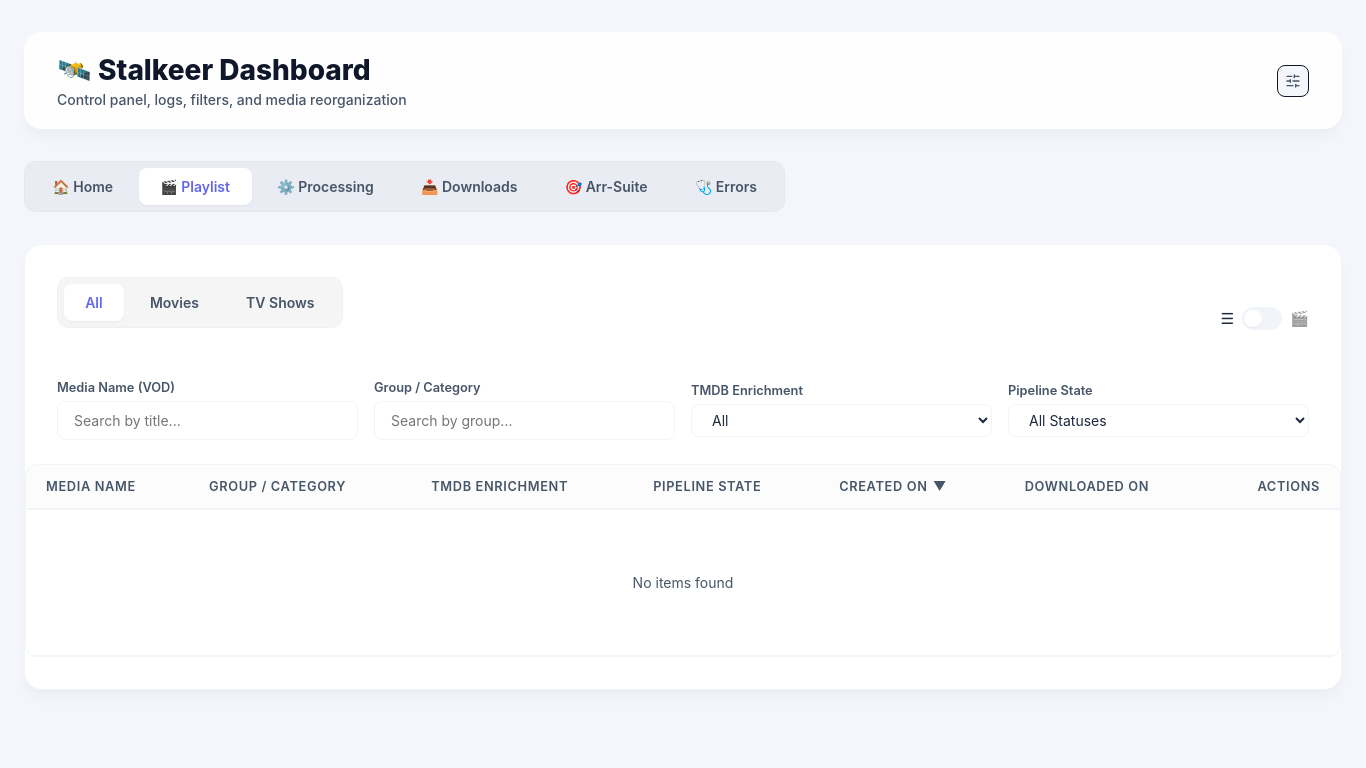
Test case: App settings navigation via URL › restores the previously active main tab on Close, regardless of which Configuration-page tab was last selected
Expected: the field with placeholder "Search by title..." is shown, [57,400,358,440]
Click the button titled "Settings": [1293, 80] box [1277,64,1309,96]
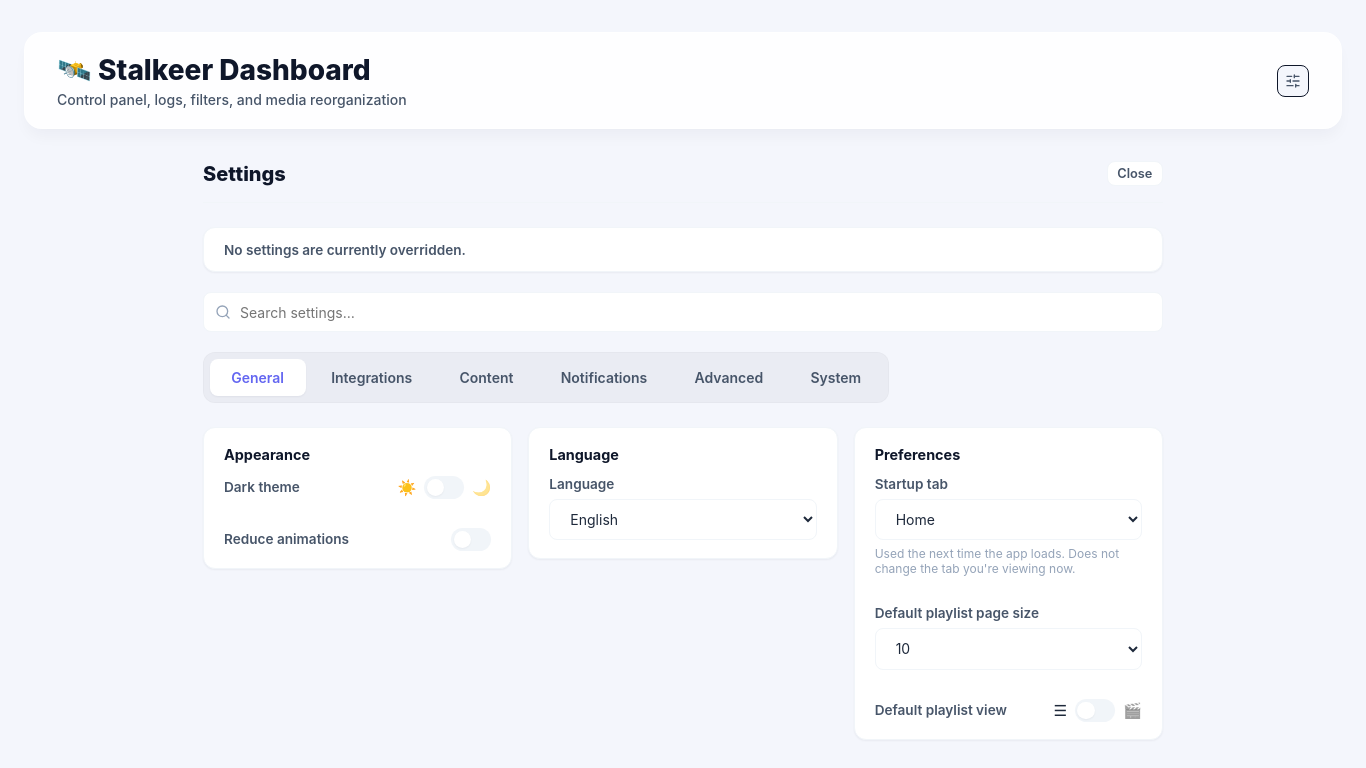
Expected: the heading "Appearance" is shown, [224,446,310,462]
// Switch to a different Configuration-page tab before closing.
Press the mouse on the tab "Advanced": [729, 378] box [673,359,785,396]
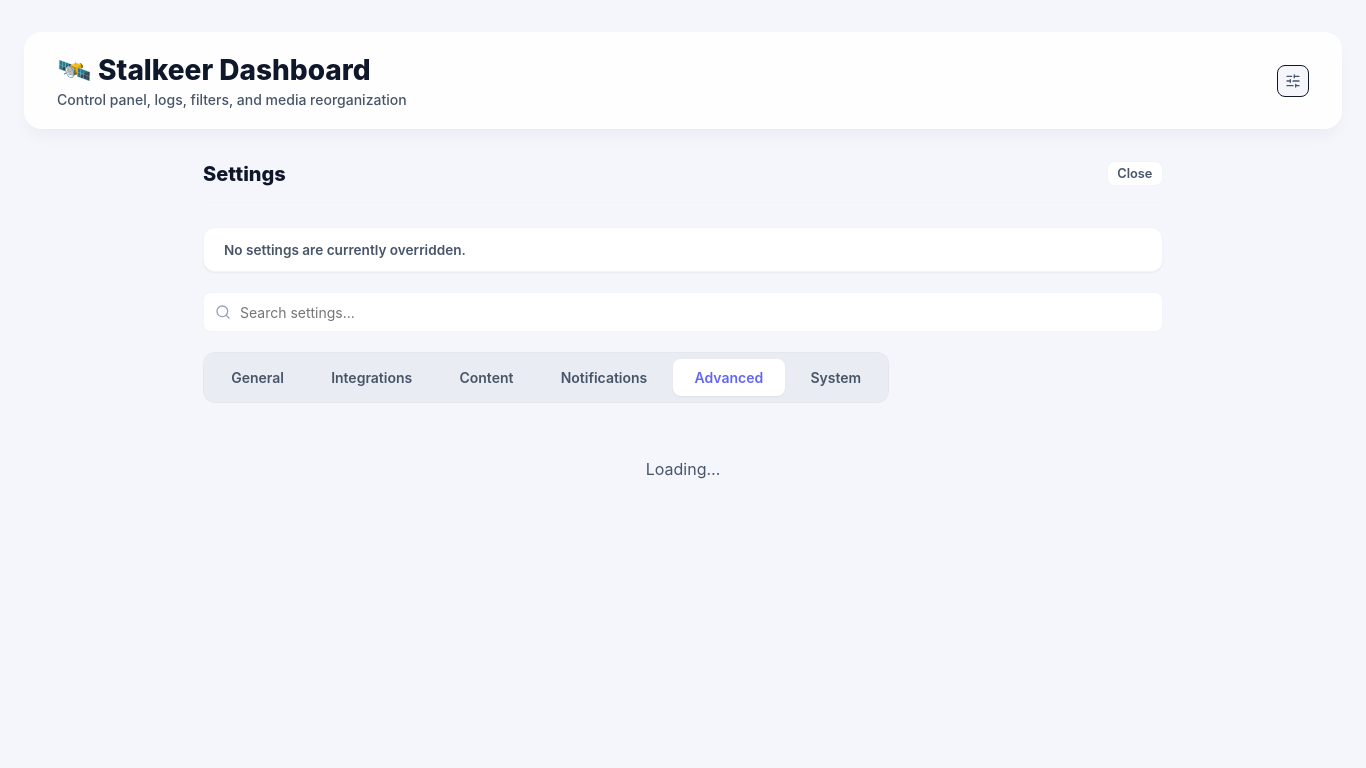
Click the button "Close": [1135, 174] box [1107,161,1163,186]
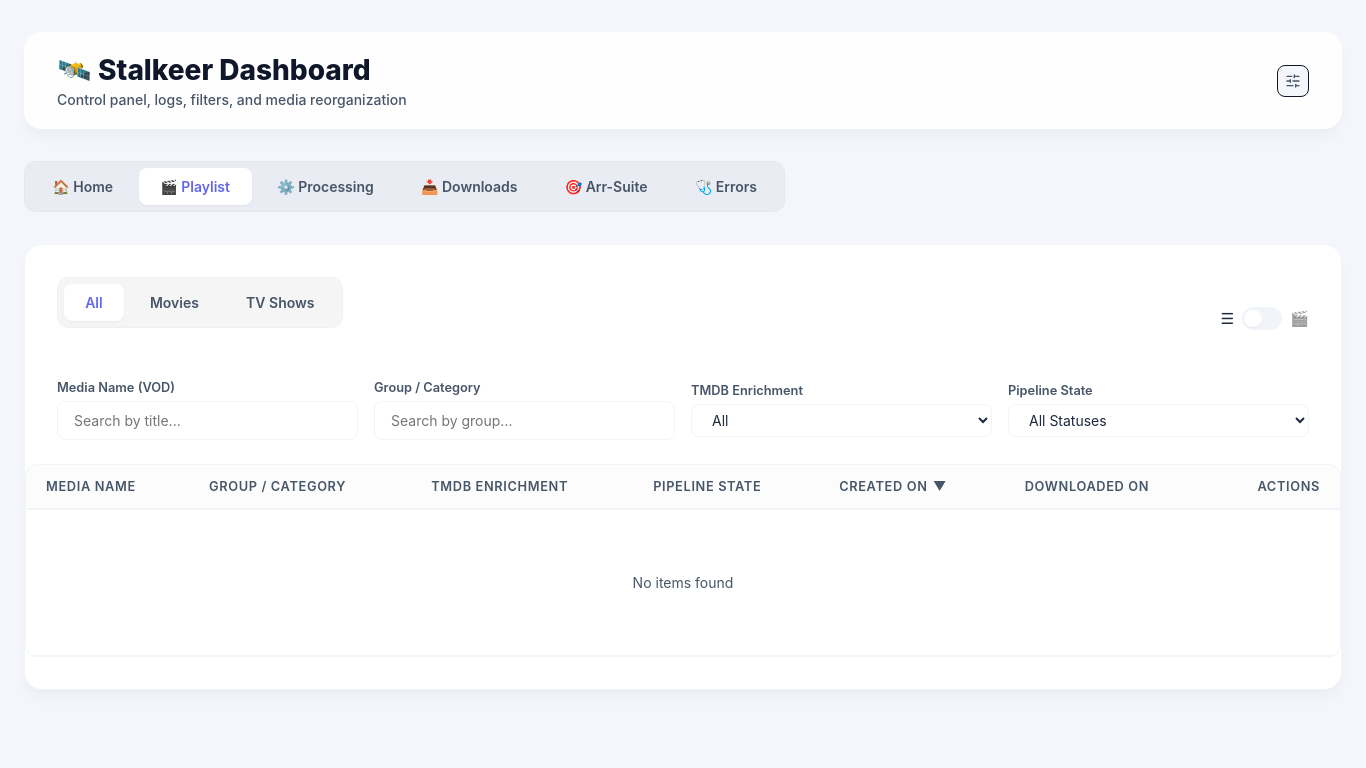
Expected: the field with placeholder "Search by title..." is shown, [57,400,358,440]
